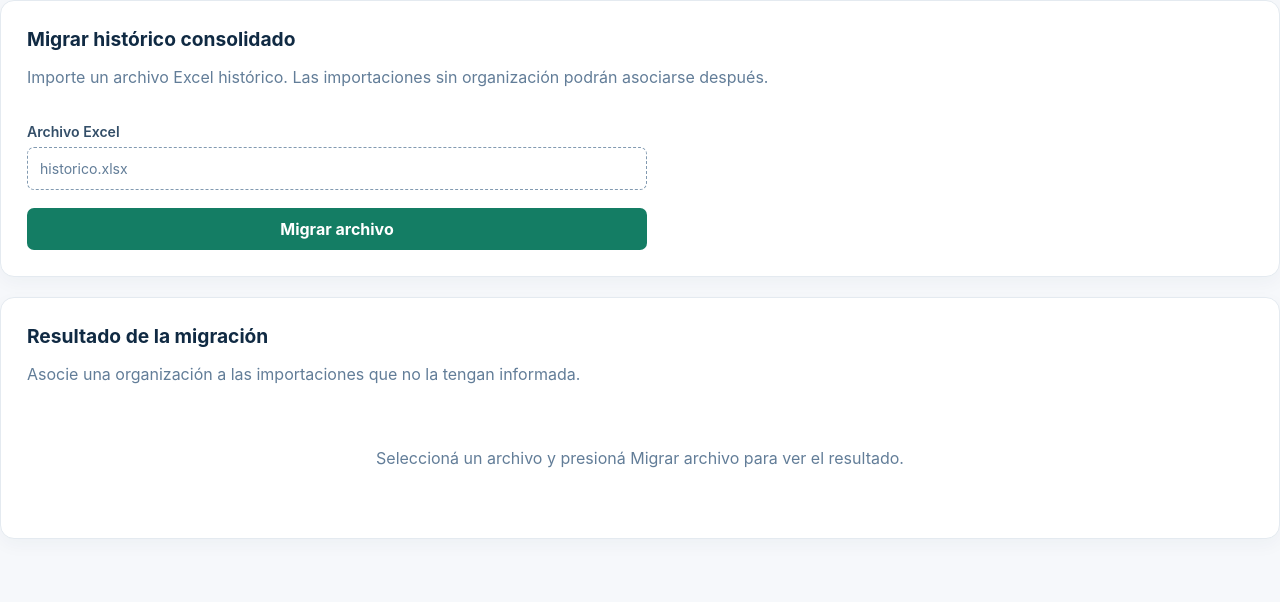
Test case: Migration › muestra el mensaje del backend cuando la migración tiene filas con errores
Earlier steps of the test are not shown.
Click the button "Migrar archivo" at (337, 229), box [27,208,647,250]
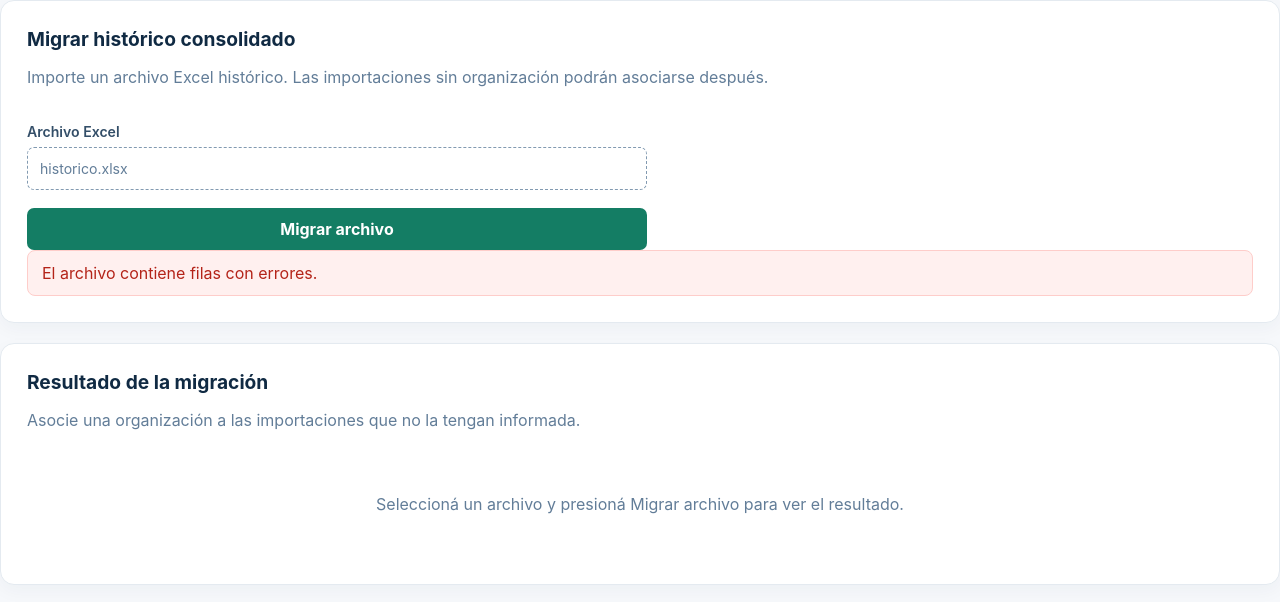
Now the text "El archivo contiene filas con errores." is shown, box [42,263,317,283]
